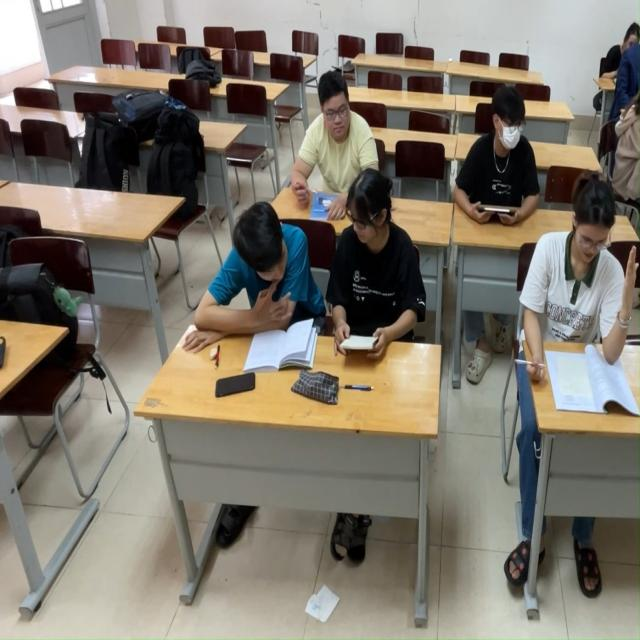raise_hand: (523, 190, 640, 385)
read: (196, 209, 328, 378), (326, 190, 424, 380)
